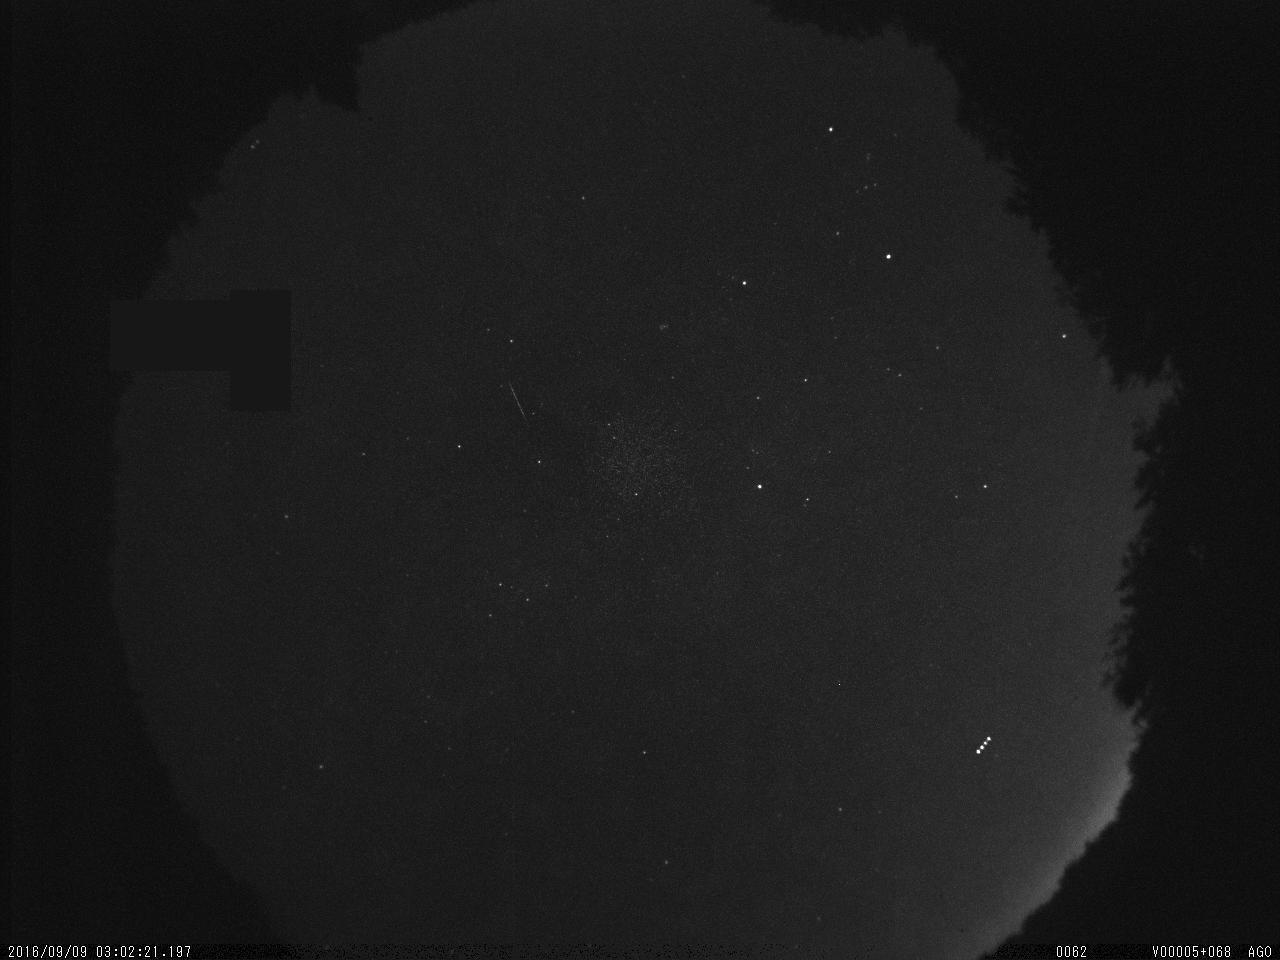meteor: (501, 376, 534, 431)
